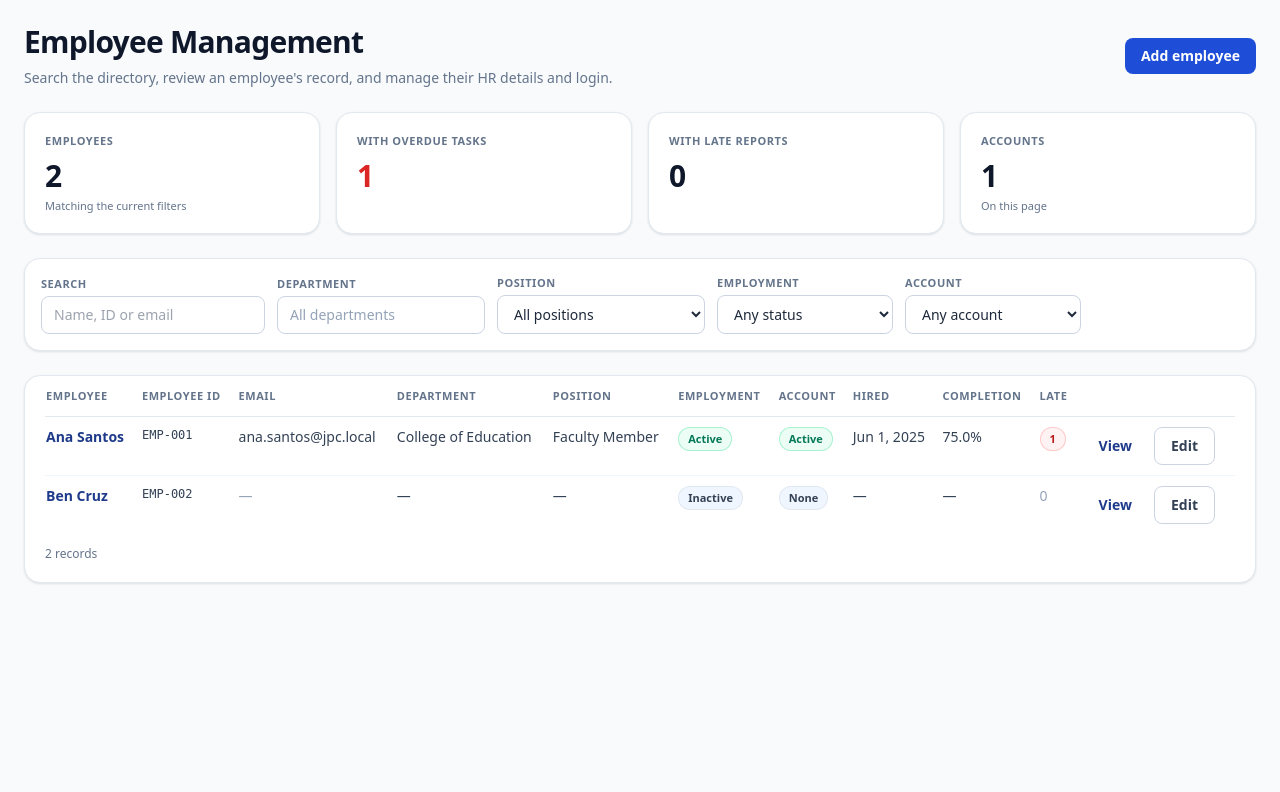
Scenario: EmployeesPage › does not offer account status for an employee with no login
Expected: the table is shown, [45,376,1235,534]
Step 1. Click the button "View" in the row of "EMP-002" → coordinates (1115, 505), box [1083,486,1148,524]
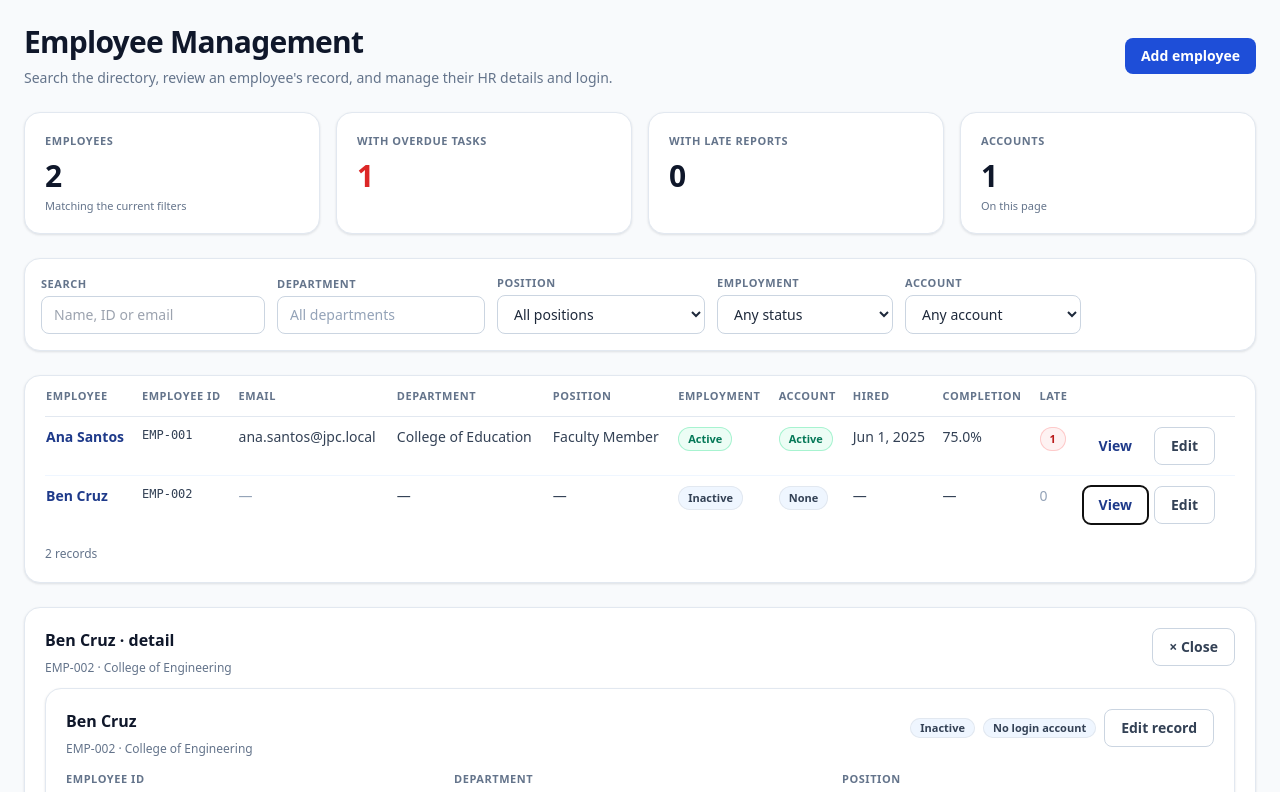
Result: the text "No login account" is shown at [983,718,1096,738]
